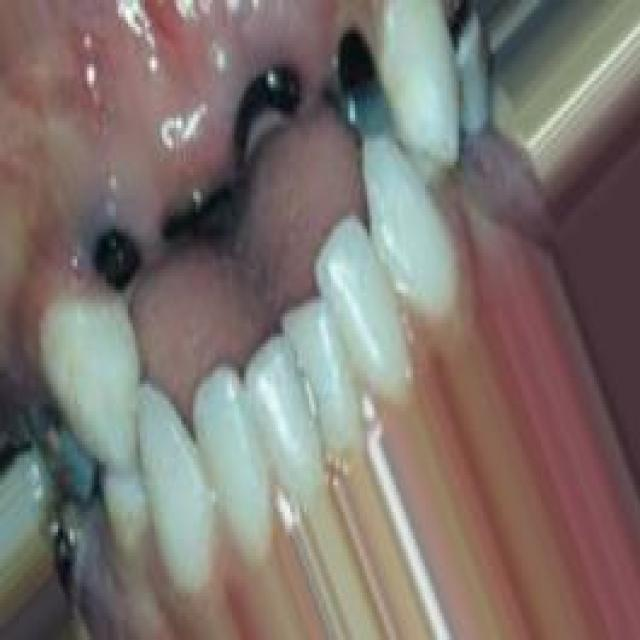caries: (225, 39, 312, 164), (320, 3, 388, 142), (153, 152, 244, 255), (42, 498, 118, 620), (15, 398, 103, 488), (69, 201, 150, 297), (440, 3, 495, 141)
